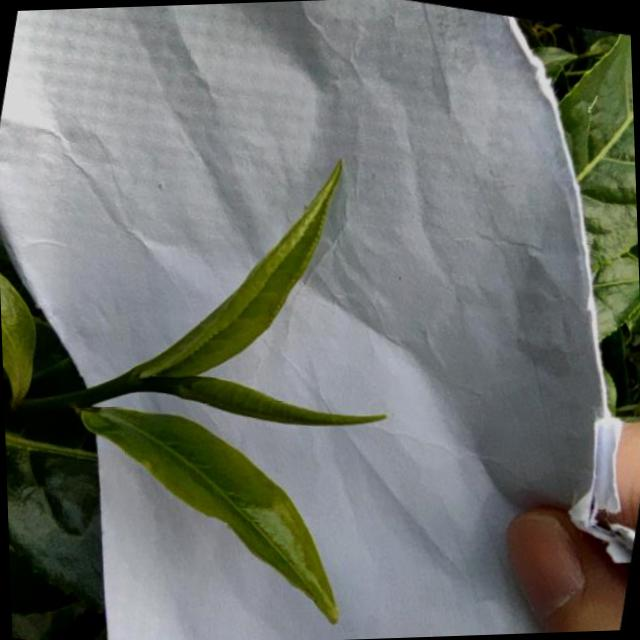Stem: (98, 372, 130, 401)
